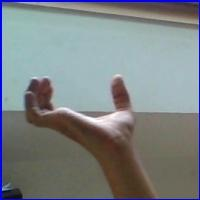B: (19, 69, 151, 156)
